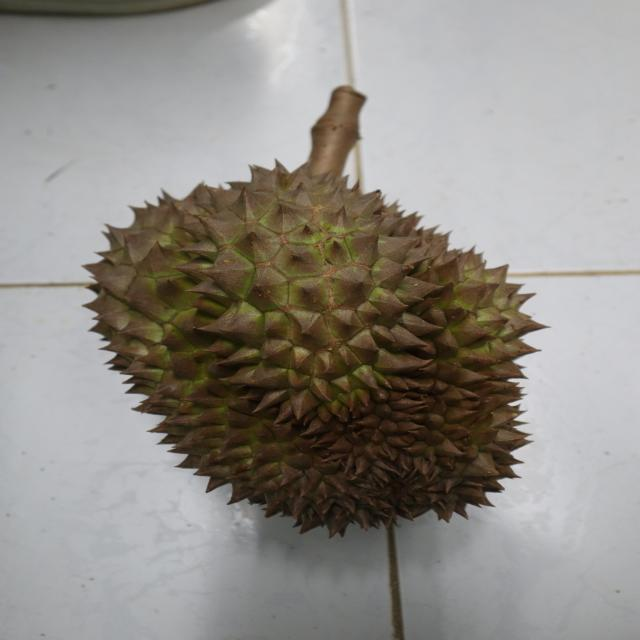mature: (85, 158, 555, 540)
